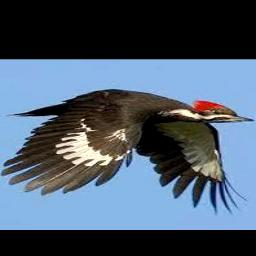Woodpecker: (1, 89, 253, 217)
